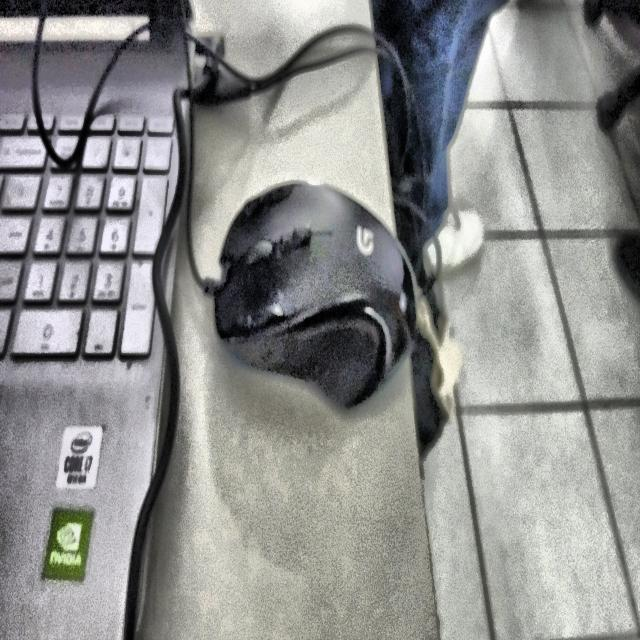Laptop: (0, 0, 186, 638)
MOUSE: (207, 183, 417, 409)
